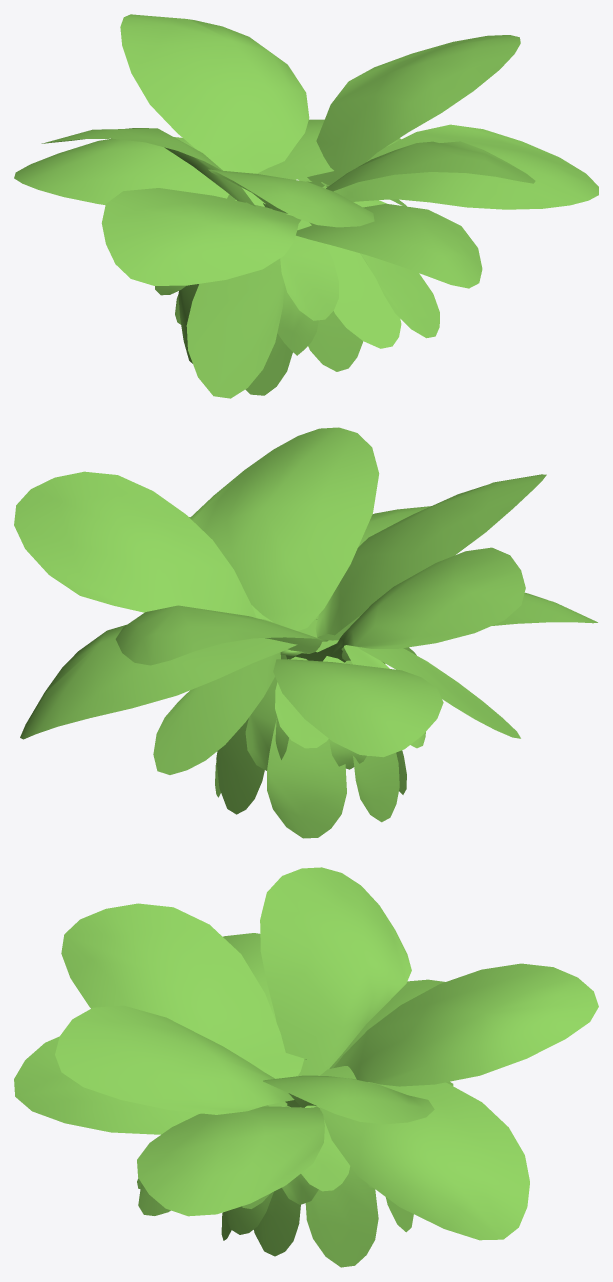
Rendered from leaves2.glb.
The picture shows the model from 3 angles, top to bottom: view 1: azimuth 30°, elevation 25°; view 2: azimuth 150°, elevation 25°; view 3: azimuth 270°, elevation 25°; orthographic projection. The views are drawn at different scales.
Visible parts, largest first — view 1: TropicalTree; view 2: TropicalTree; view 3: TropicalTree.
Boxes of the visible parts, x1,y1,x2,y2 form: TropicalTree: (14, 14, 598, 398); TropicalTree: (14, 427, 597, 838); TropicalTree: (14, 867, 598, 1267).
Size of the model in its own units: 4.09 by 2.21 by 4.24.
